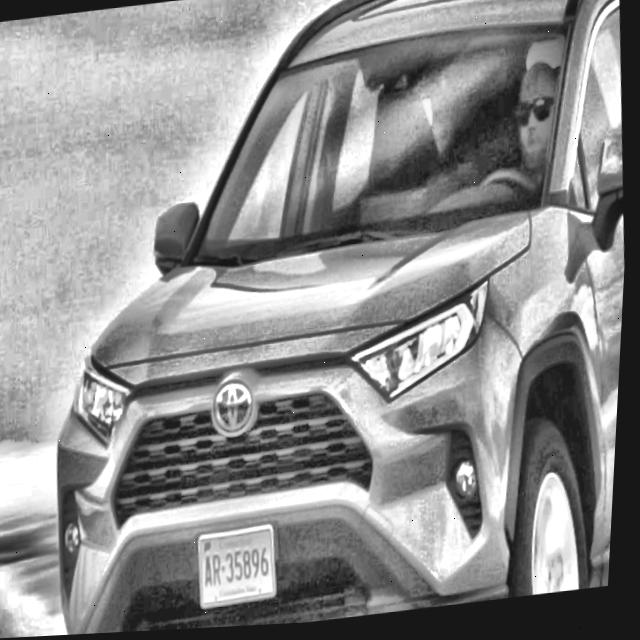light_vehicle: (20, 0, 640, 638)
